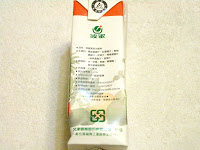vegetables juice: (69, 1, 131, 148)
